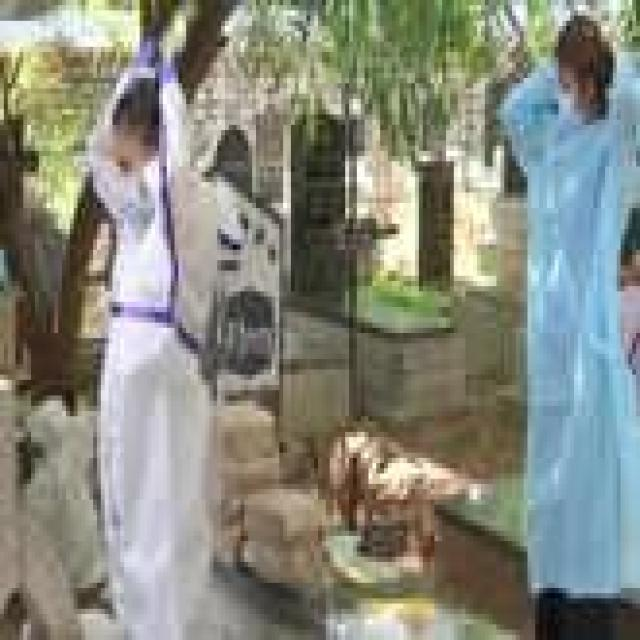Coverall: (77, 41, 275, 640), (485, 26, 640, 624)
